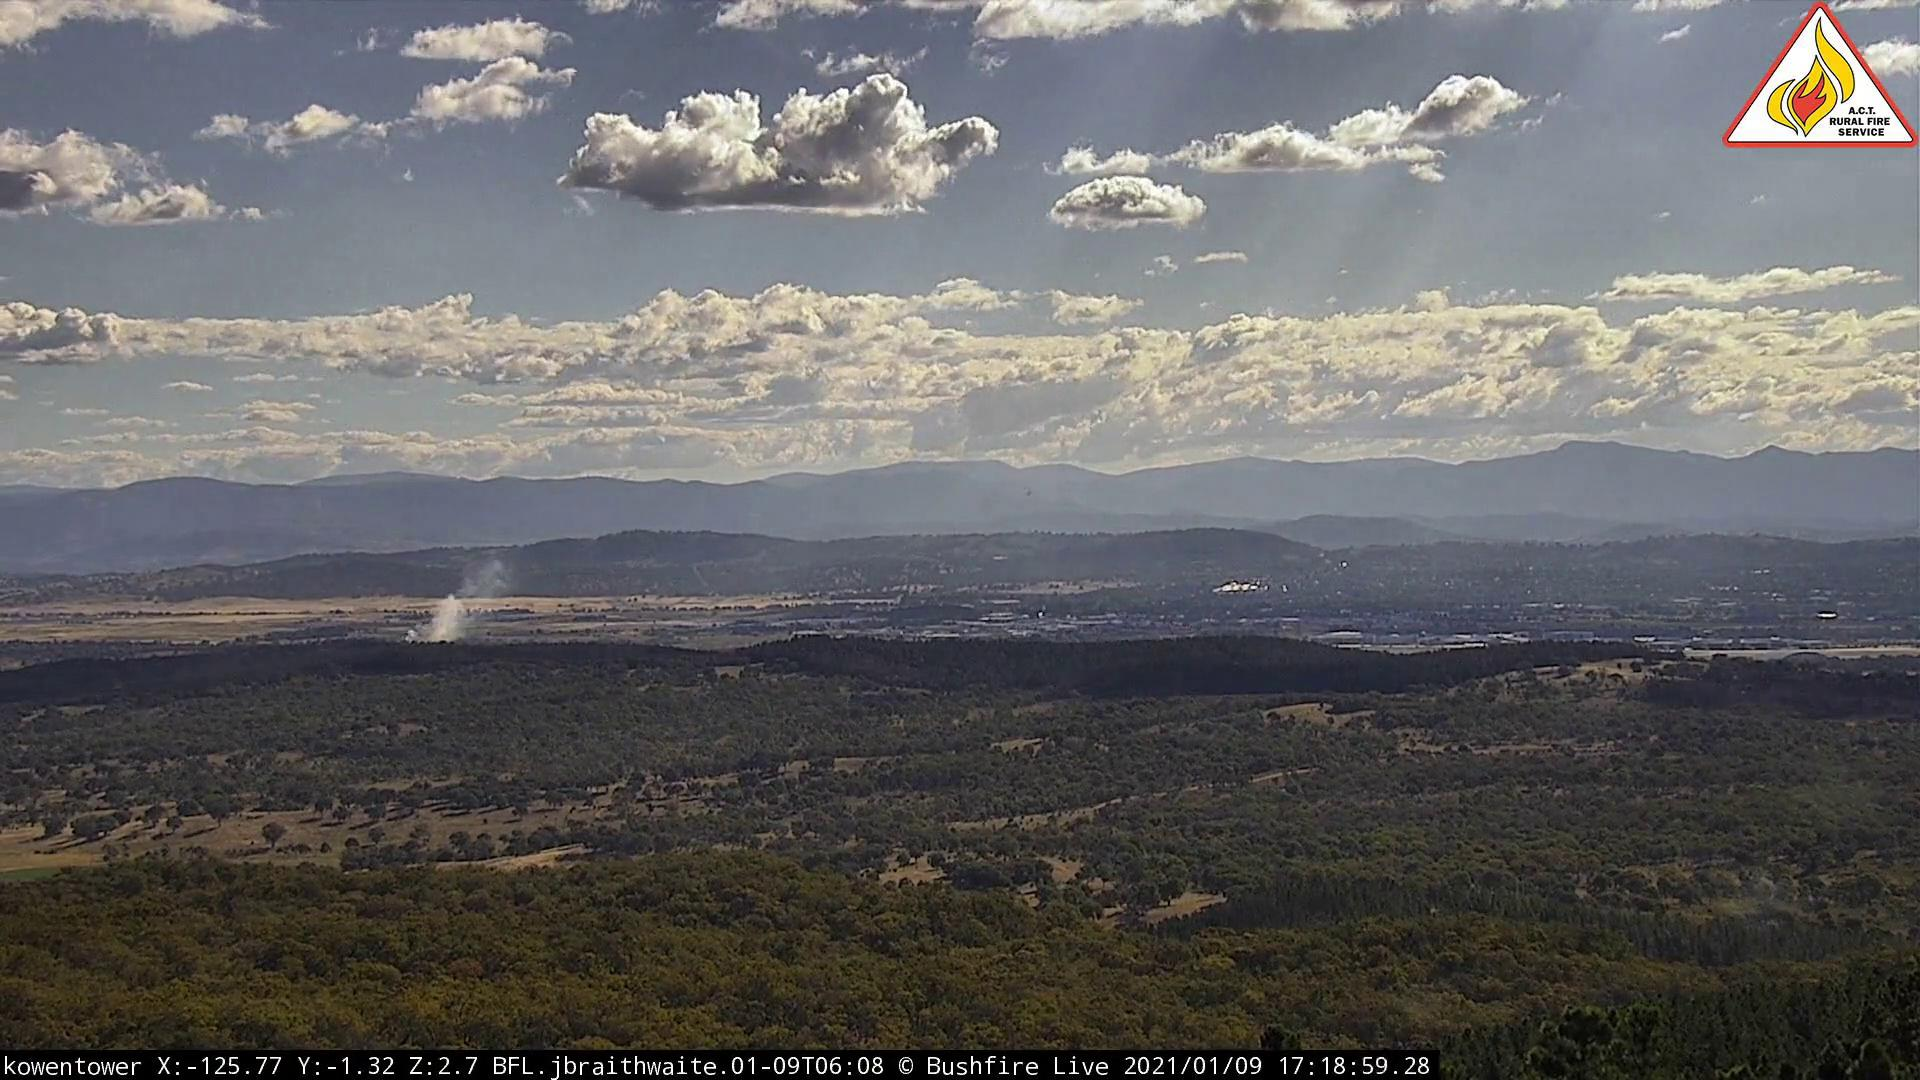Smoke: (404, 560, 509, 657)
